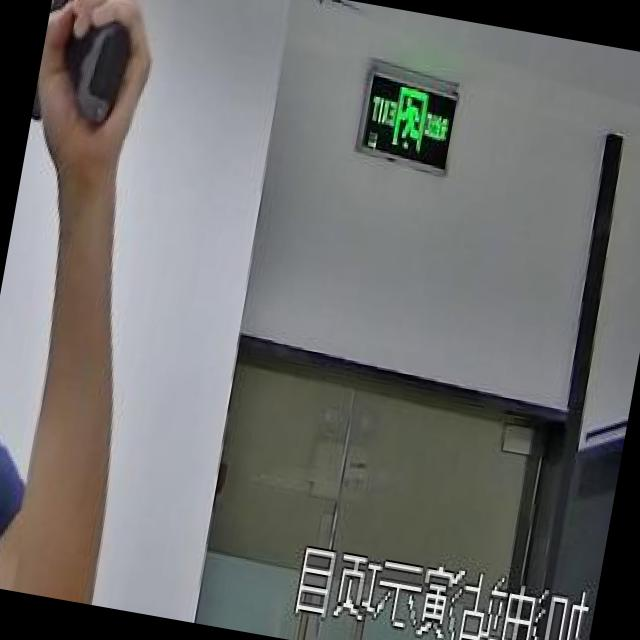Guns: (23, 0, 170, 179)
